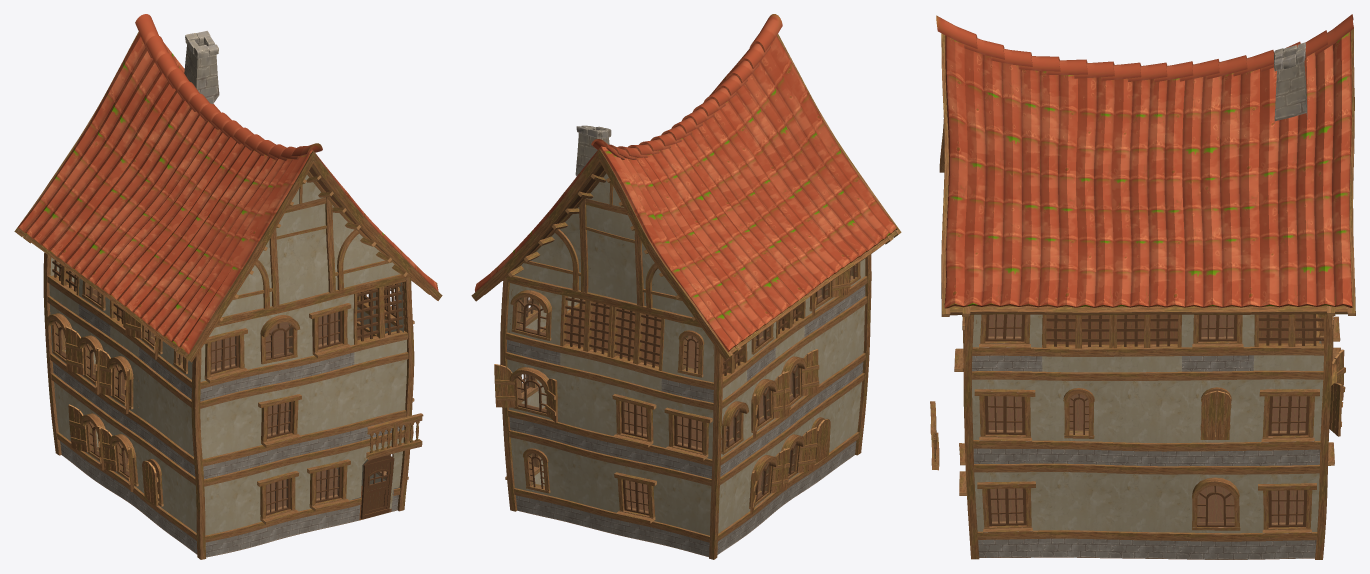
3 renders of one model, left to right at view 1: azimuth 30°, elevation 25°; view 2: azimuth 150°, elevation 25°; view 3: azimuth 270°, elevation 25°, orthographic. The views are drawn at different scales.
Parts seen in each view (by area): view 1: H05; view 2: H05; view 3: H05.
Part boxes in pixels (x1,y1,x2,y2): H05: (14,14,442,559); H05: (471,14,901,559); H05: (930,14,1355,559).
Bounding box in the file's own units: 10.46 × 15.64 × 12.4.
36 materials, 32 textured.
